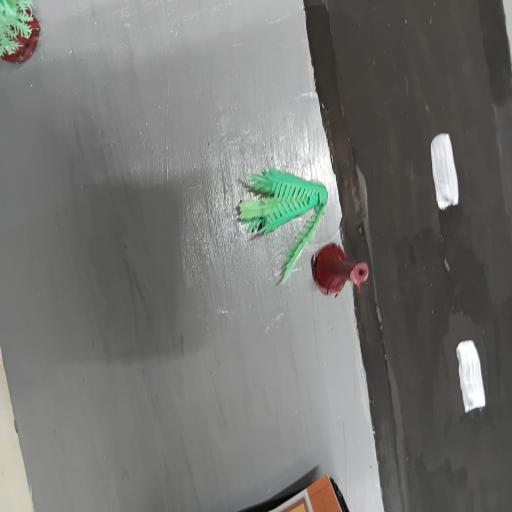fallen trees: (232, 162, 387, 316)
